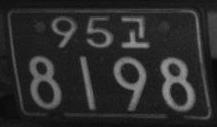1: (71, 55, 102, 110)
5: (85, 14, 114, 48)
8: (159, 55, 196, 113), (27, 54, 63, 109)
9: (112, 55, 148, 111), (50, 14, 78, 49)
고: (120, 14, 149, 49)
